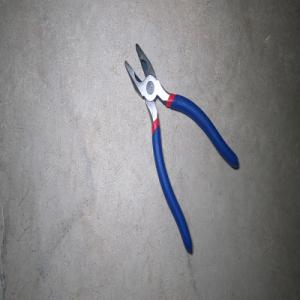Pliers: (124, 42, 239, 254)
